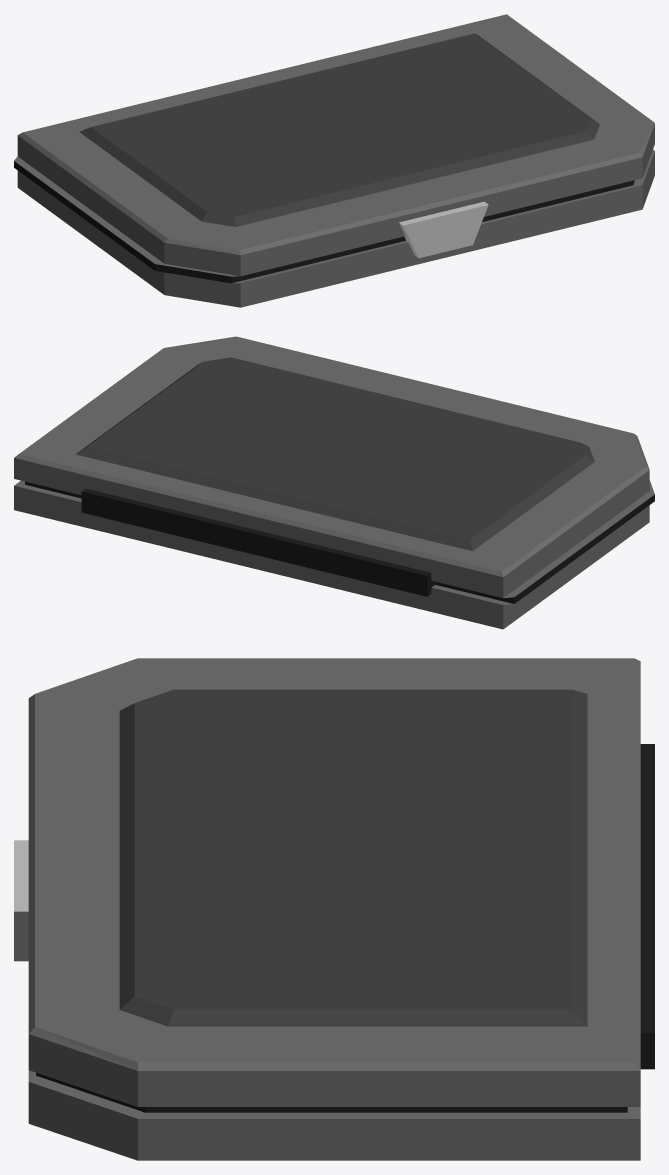
File: tech_small_F.FBX
3 views of the same model, one above another, from view 1: azimuth 30°, elevation 25°; view 2: azimuth 150°, elevation 25°; view 3: azimuth 270°, elevation 25° (orthographic). The views are drawn at different scales.
Parts seen in each view (by area): view 1: tech_small_F; view 2: tech_small_F; view 3: tech_small_F.
Boxes of the visible parts, x1,y1,x2,y2 form: tech_small_F: (14, 14, 654, 307); tech_small_F: (14, 336, 654, 629); tech_small_F: (14, 658, 654, 1160).
Bounding box in the file's own units: 46.46 × 5.53 × 30.26.
